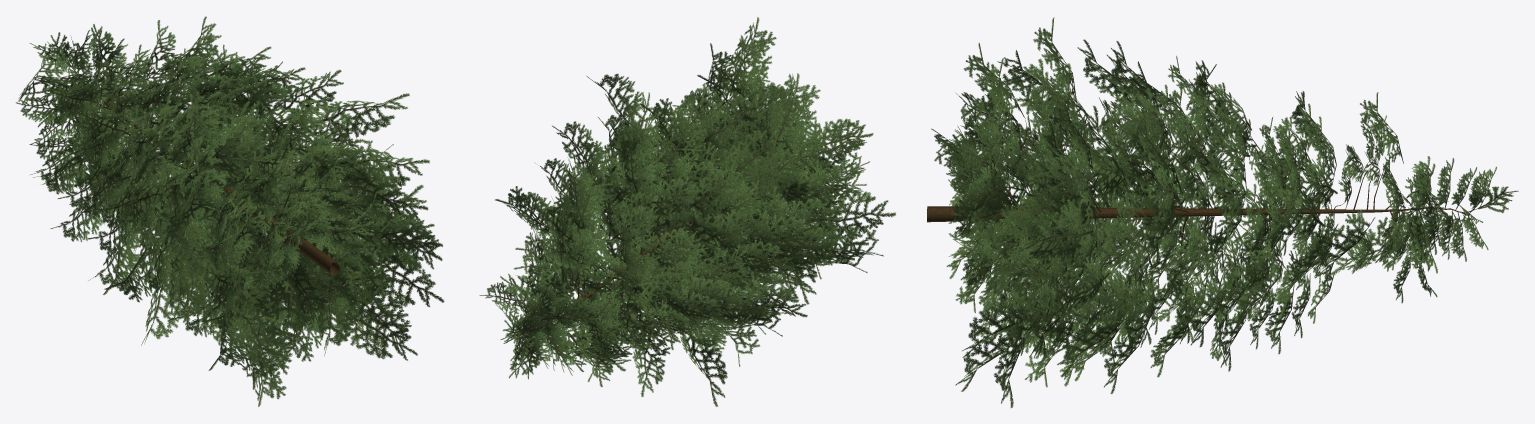
The model's file is pine_lod1.glb.
3 views of the same model, side by side, from view 1: azimuth 30°, elevation 25°; view 2: azimuth 150°, elevation 25°; view 3: azimuth 270°, elevation 25° (orthographic). The views are drawn at different scales.
Visible parts, largest first — view 1: Christmas tree_6_LOD1; view 2: Christmas tree_6_LOD1; view 3: Christmas tree_6_LOD1.
Boxes of the visible parts, bbox=[...] form: Christmas tree_6_LOD1: bbox=[15, 16, 444, 406]; Christmas tree_6_LOD1: bbox=[479, 17, 895, 406]; Christmas tree_6_LOD1: bbox=[927, 17, 1518, 408].
Size of the model in its own units: 4.52 by 4.39 by 6.61.
Materials: 2 (2 with a texture image).
